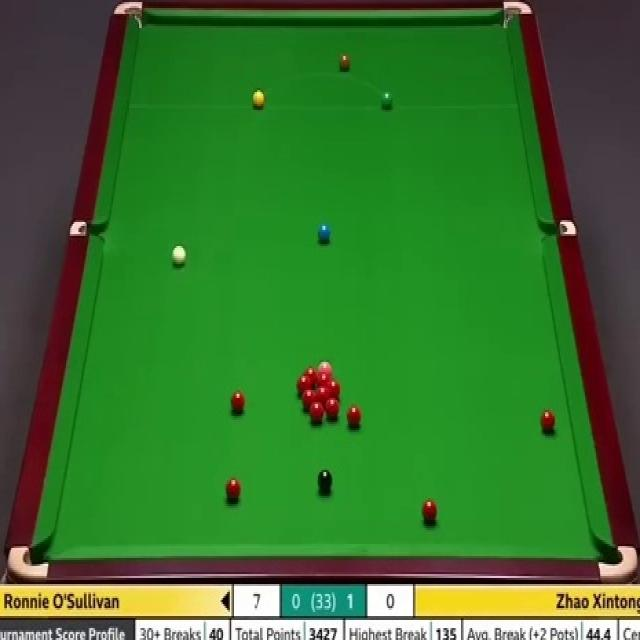pocket: (597, 542, 637, 583), (6, 542, 51, 578), (111, 0, 145, 34), (499, 0, 531, 32), (541, 222, 576, 242), (68, 222, 104, 236)
